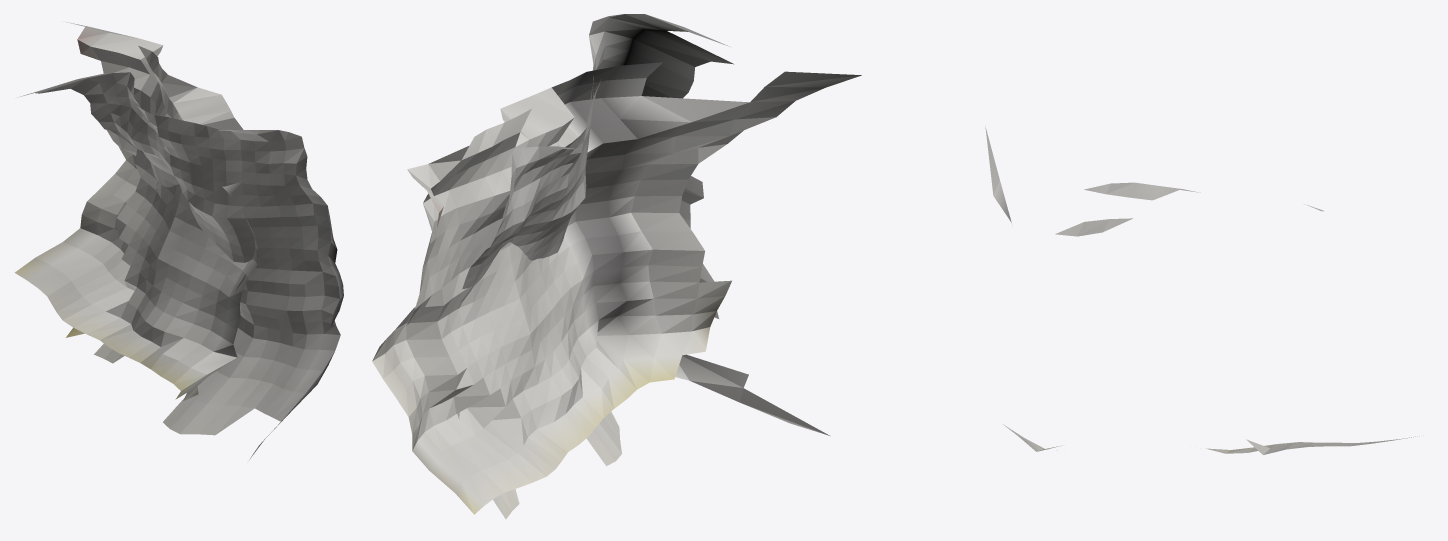
Rendered from entity-sign-14.glb.
3 views of the same model, side by side, from view 1: azimuth 30°, elevation 25°; view 2: azimuth 150°, elevation 25°; view 3: azimuth 270°, elevation 25° (orthographic). The views are drawn at different scales.
Visible parts, largest first — view 1: geometry_0; view 2: geometry_0; view 3: geometry_0.
Part boxes in pixels (box(x1,y1,x2,y2)): geometry_0: box(14, 22, 343, 459); geometry_0: box(372, 14, 861, 519); geometry_0: box(985, 126, 1419, 454).
Size of the model in its own units: 0.1875 by 0.2385 by 0.2627.
